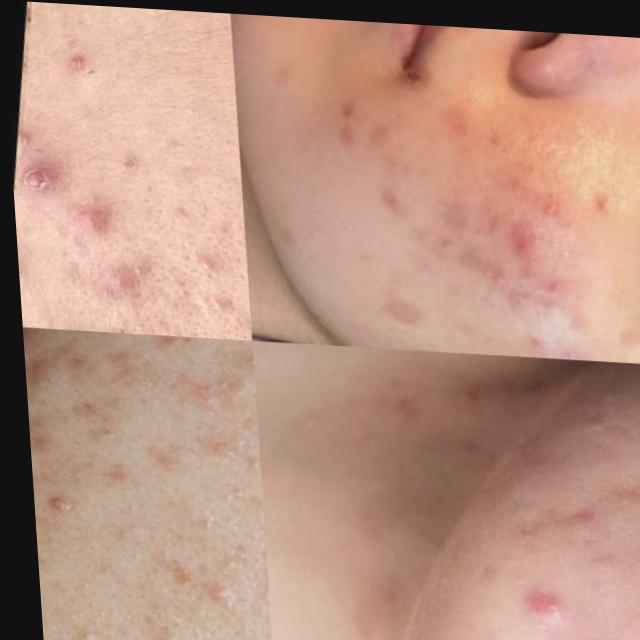8: (491, 577, 568, 638), (26, 455, 78, 538), (490, 203, 550, 264), (8, 150, 58, 208), (531, 253, 575, 304), (66, 206, 112, 250), (19, 361, 54, 402), (513, 318, 553, 352), (483, 286, 523, 315), (17, 327, 45, 360)
blackheads: (476, 473, 602, 551), (359, 179, 410, 232), (323, 89, 360, 156), (370, 287, 416, 331), (247, 12, 288, 22)
dark spot: (195, 369, 236, 412)
